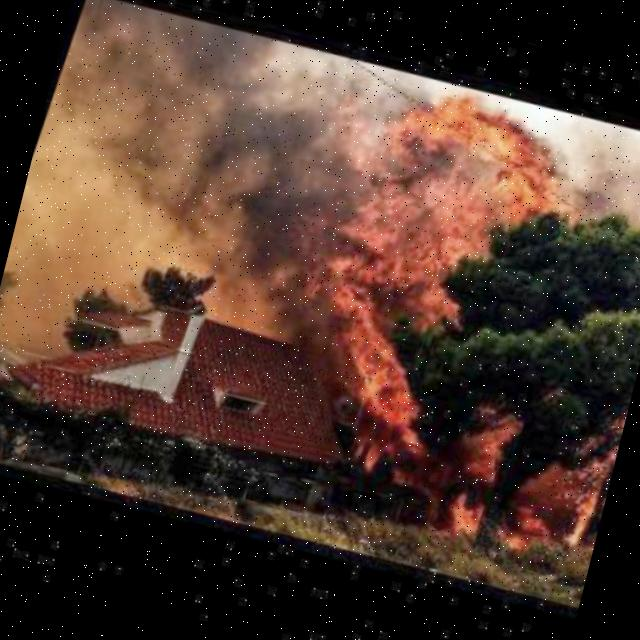fire: (254, 72, 565, 492), (430, 377, 626, 577)
